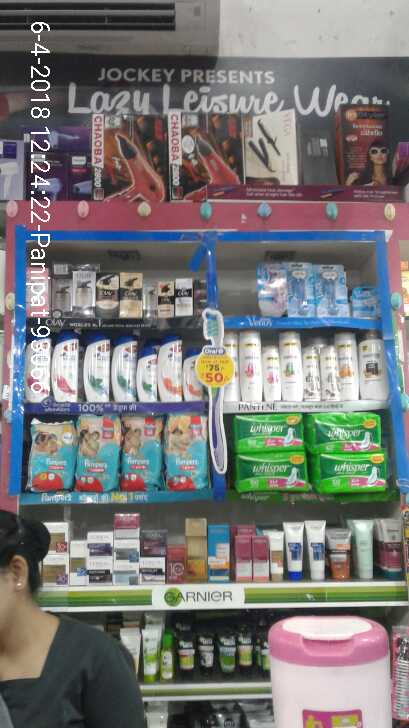venus: (257, 263, 289, 316), (316, 262, 344, 317), (289, 262, 316, 316), (352, 286, 379, 317)
